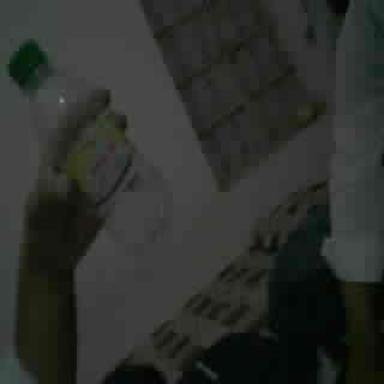bottle: (8, 40, 169, 246)
